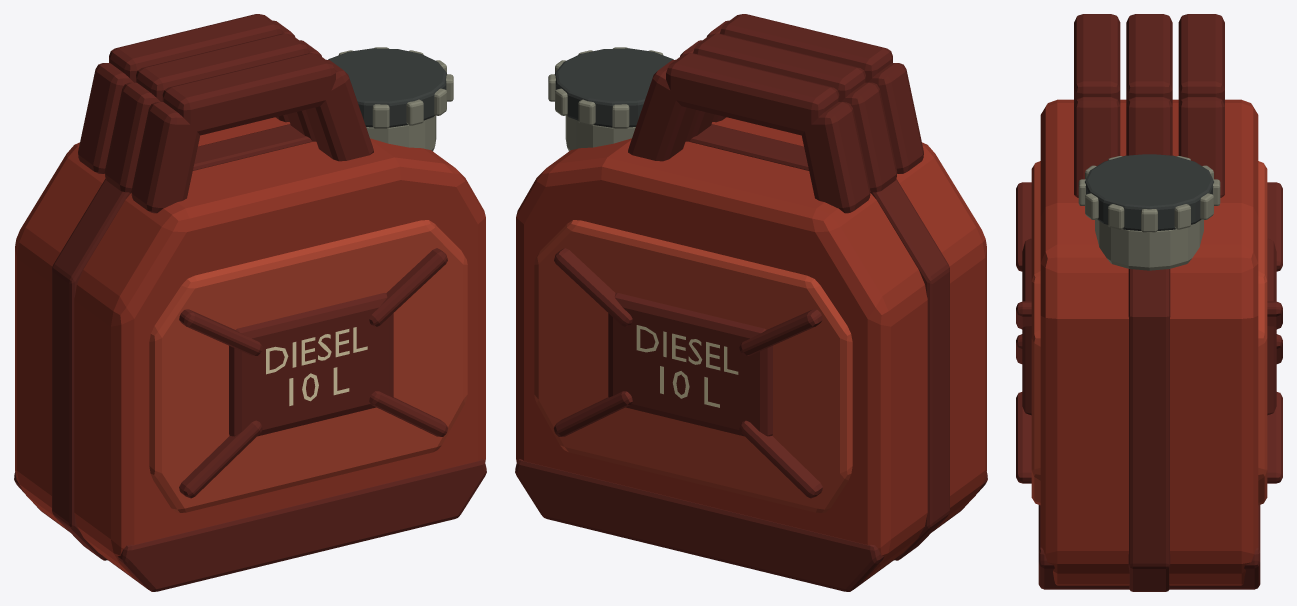
File: DeadRail_Fuel_Can_Small.fbx
3 renders of one model, left to right at view 1: azimuth 30°, elevation 25°; view 2: azimuth 150°, elevation 25°; view 3: azimuth 270°, elevation 25°, orthographic. The views are drawn at different scales.
Visible parts, largest first — view 1: DeadRail_Fuel_Can_Small_Mesh; view 2: DeadRail_Fuel_Can_Small_Mesh; view 3: DeadRail_Fuel_Can_Small_Mesh.
Boxes of the visible parts, x1,y1,x2,y2 form: DeadRail_Fuel_Can_Small_Mesh: [14, 14, 486, 591]; DeadRail_Fuel_Can_Small_Mesh: [515, 14, 987, 591]; DeadRail_Fuel_Can_Small_Mesh: [1016, 14, 1282, 591].
Size of the model in its own units: 0.3078 by 0.3593 by 0.19.
